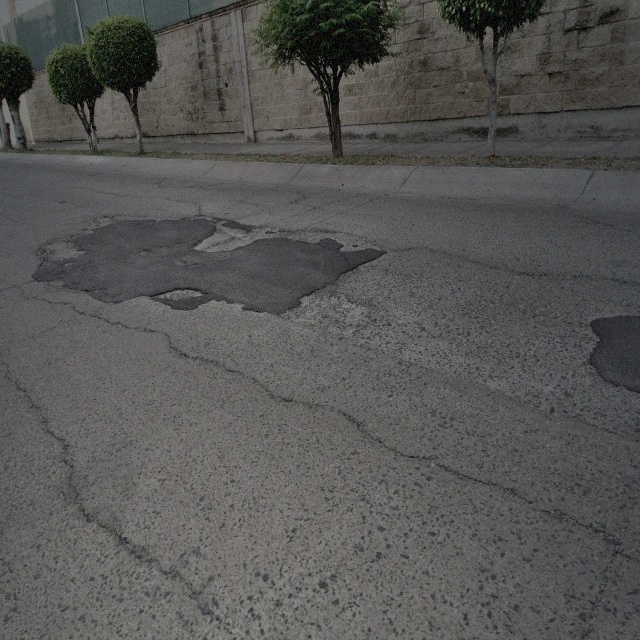pothole: (300, 265, 360, 309), (190, 220, 260, 249), (150, 282, 208, 299), (37, 240, 85, 260), (93, 213, 114, 220), (139, 249, 151, 254)
